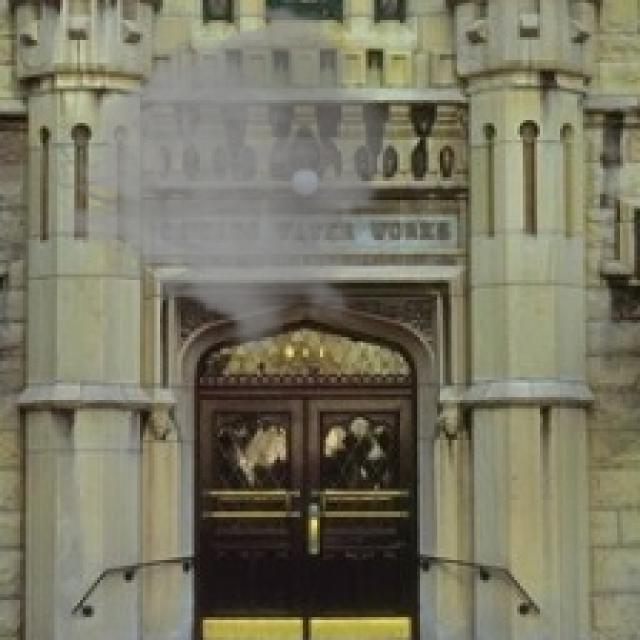Smoke: (43, 2, 443, 358)
